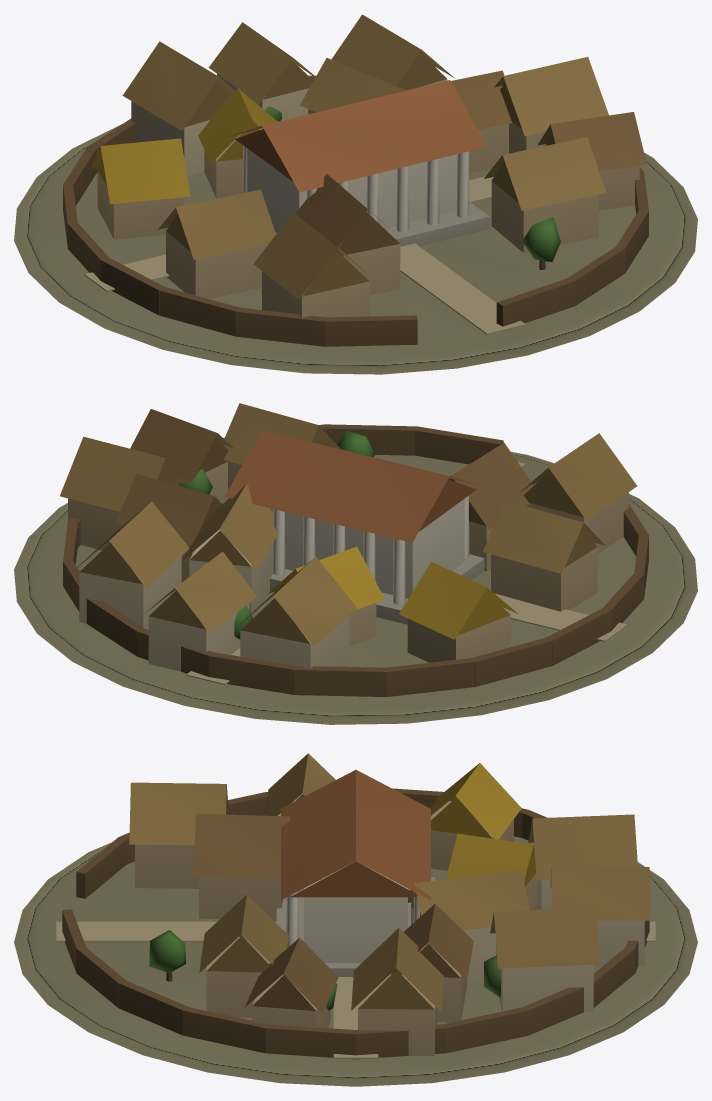
File: settlement_3_1.glb
3 renders of one model, top to bottom at view 1: azimuth 30°, elevation 25°; view 2: azimuth 150°, elevation 25°; view 3: azimuth 270°, elevation 25°, orthographic.
Visible parts, largest first — view 1: part_0; view 2: part_0; view 3: part_0.
Boxes of the visible parts, box(x1,y1,x2,y2) form: part_0: box(14, 14, 697, 374); part_0: box(14, 403, 697, 724); part_0: box(14, 753, 697, 1086).
Bounding box in the file's own units: 30.8 × 6.31 × 30.8.
